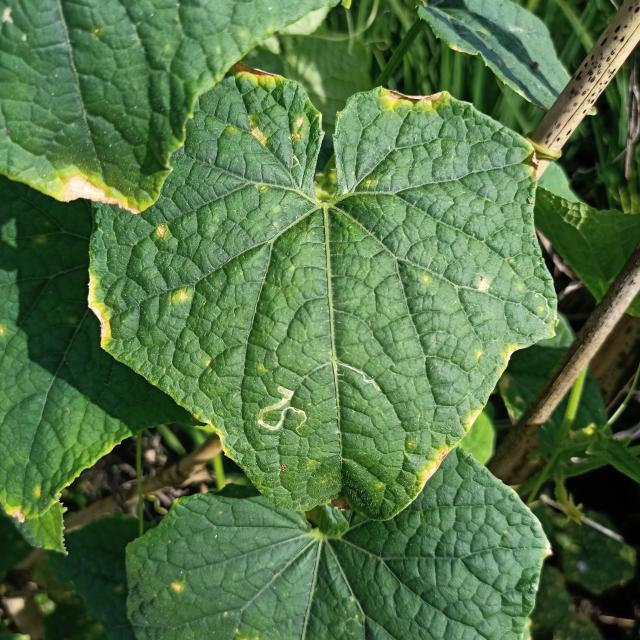disease_cucumber: (237, 63, 309, 152), (473, 336, 520, 368), (477, 277, 499, 300), (174, 285, 190, 306), (154, 221, 167, 241)
